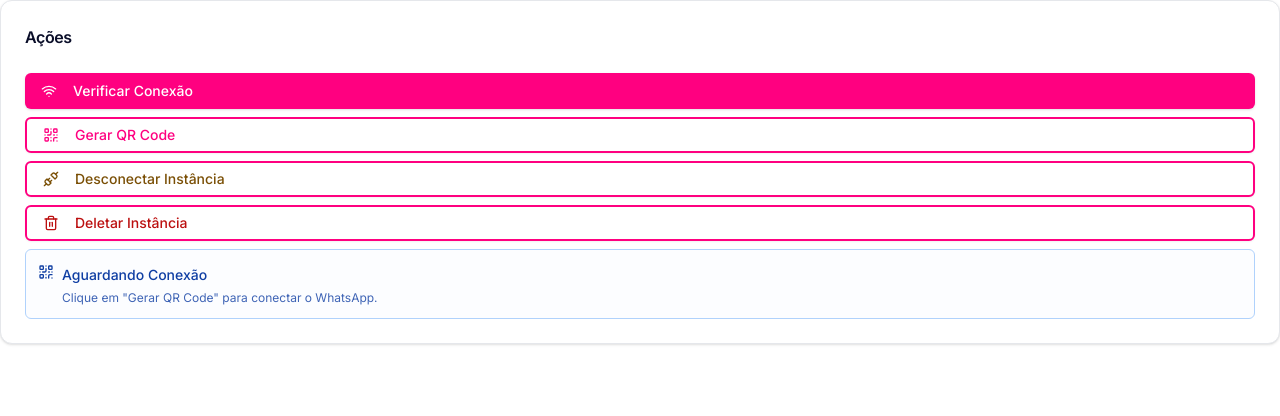
Test case: ChipActionsPanel › Verificar Conexão › mostra mensagem de desconectado
Click the button "Verificar Conexão".
click(133, 90)  # box x1=25 y1=73 x2=1255 y2=109
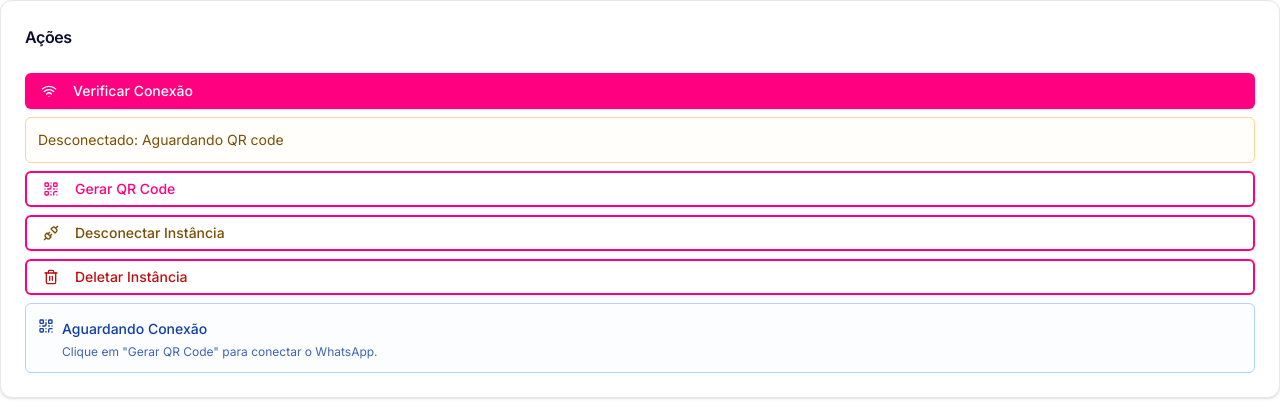
expect the text "Desconectado: Aguardando QR code" is shown: met, box x1=38 y1=131 x2=284 y2=148
